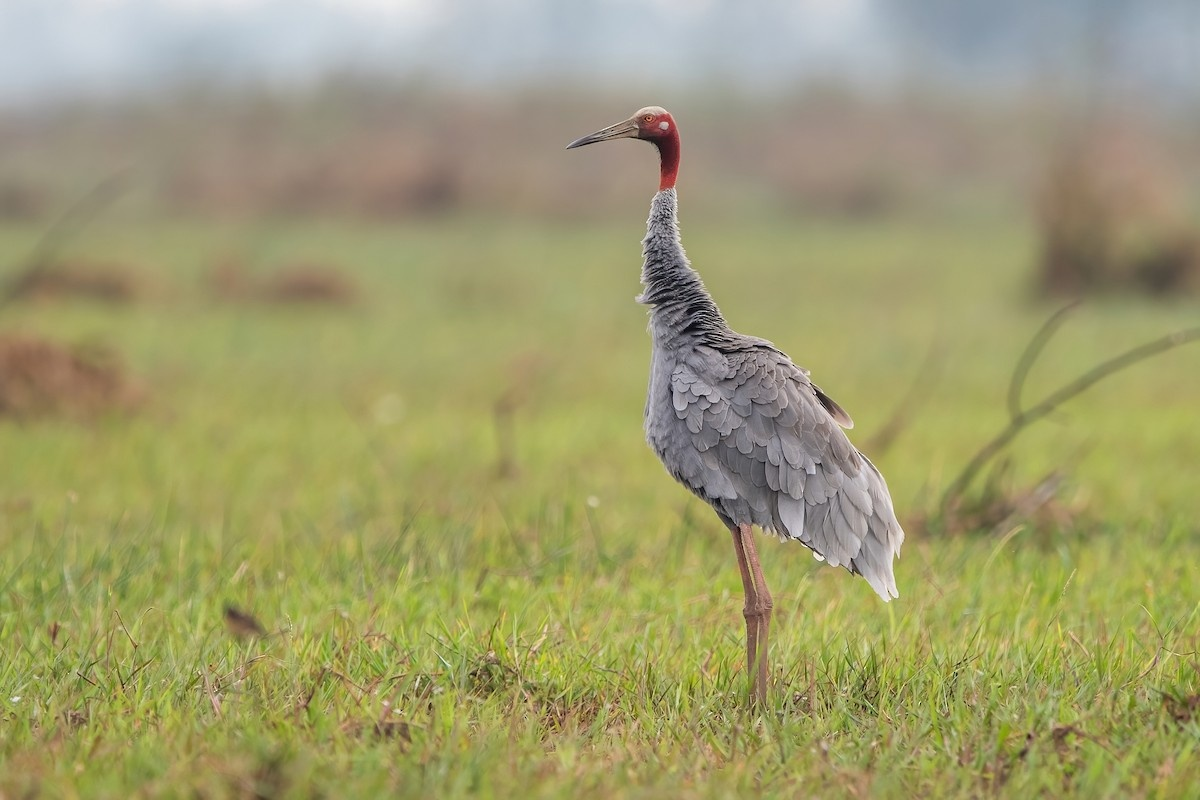crane: (559, 75, 901, 684)
